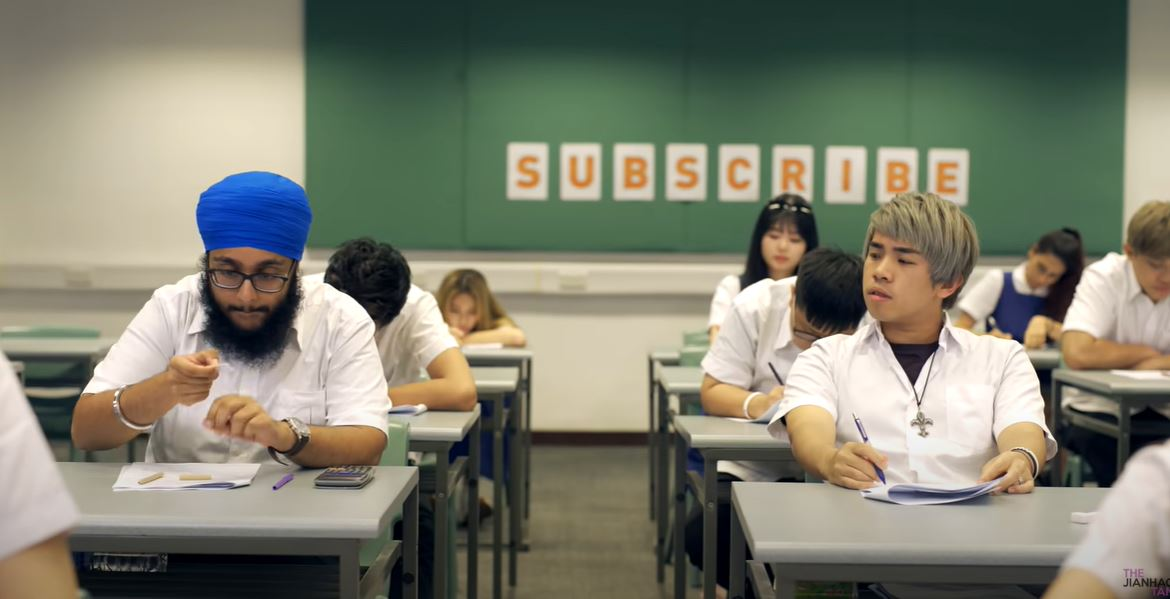student: (105, 210, 381, 479), (325, 246, 487, 407), (758, 259, 890, 370)
studentcopying: (848, 245, 1036, 489)
